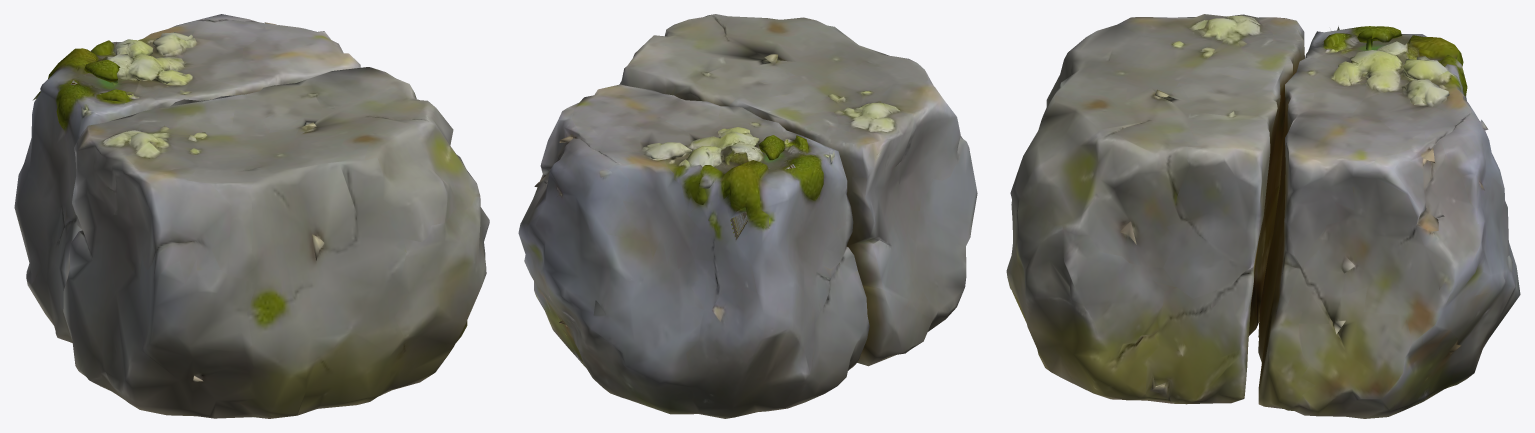
The model's file is rock_2.glb.
3 renders of one model, left to right at view 1: azimuth 30°, elevation 25°; view 2: azimuth 150°, elevation 25°; view 3: azimuth 270°, elevation 25°, orthographic. The views are drawn at different scales.
Visible parts, largest first — view 1: Fable_rock_2; view 2: Fable_rock_2; view 3: Fable_rock_2.
Boxes of the visible parts, x1,y1,x2,y2 form: Fable_rock_2: (14, 14, 489, 418); Fable_rock_2: (518, 14, 977, 418); Fable_rock_2: (1006, 14, 1520, 418).
Size of the model in its own units: 2.45 by 1.9 by 3.08.
Materials: 1 (1 with a texture image).
